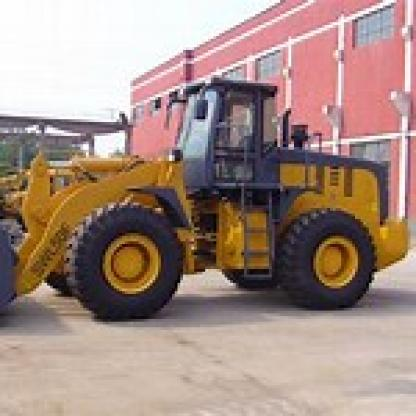bull_dozer/loader/grader: (6, 75, 413, 355)
